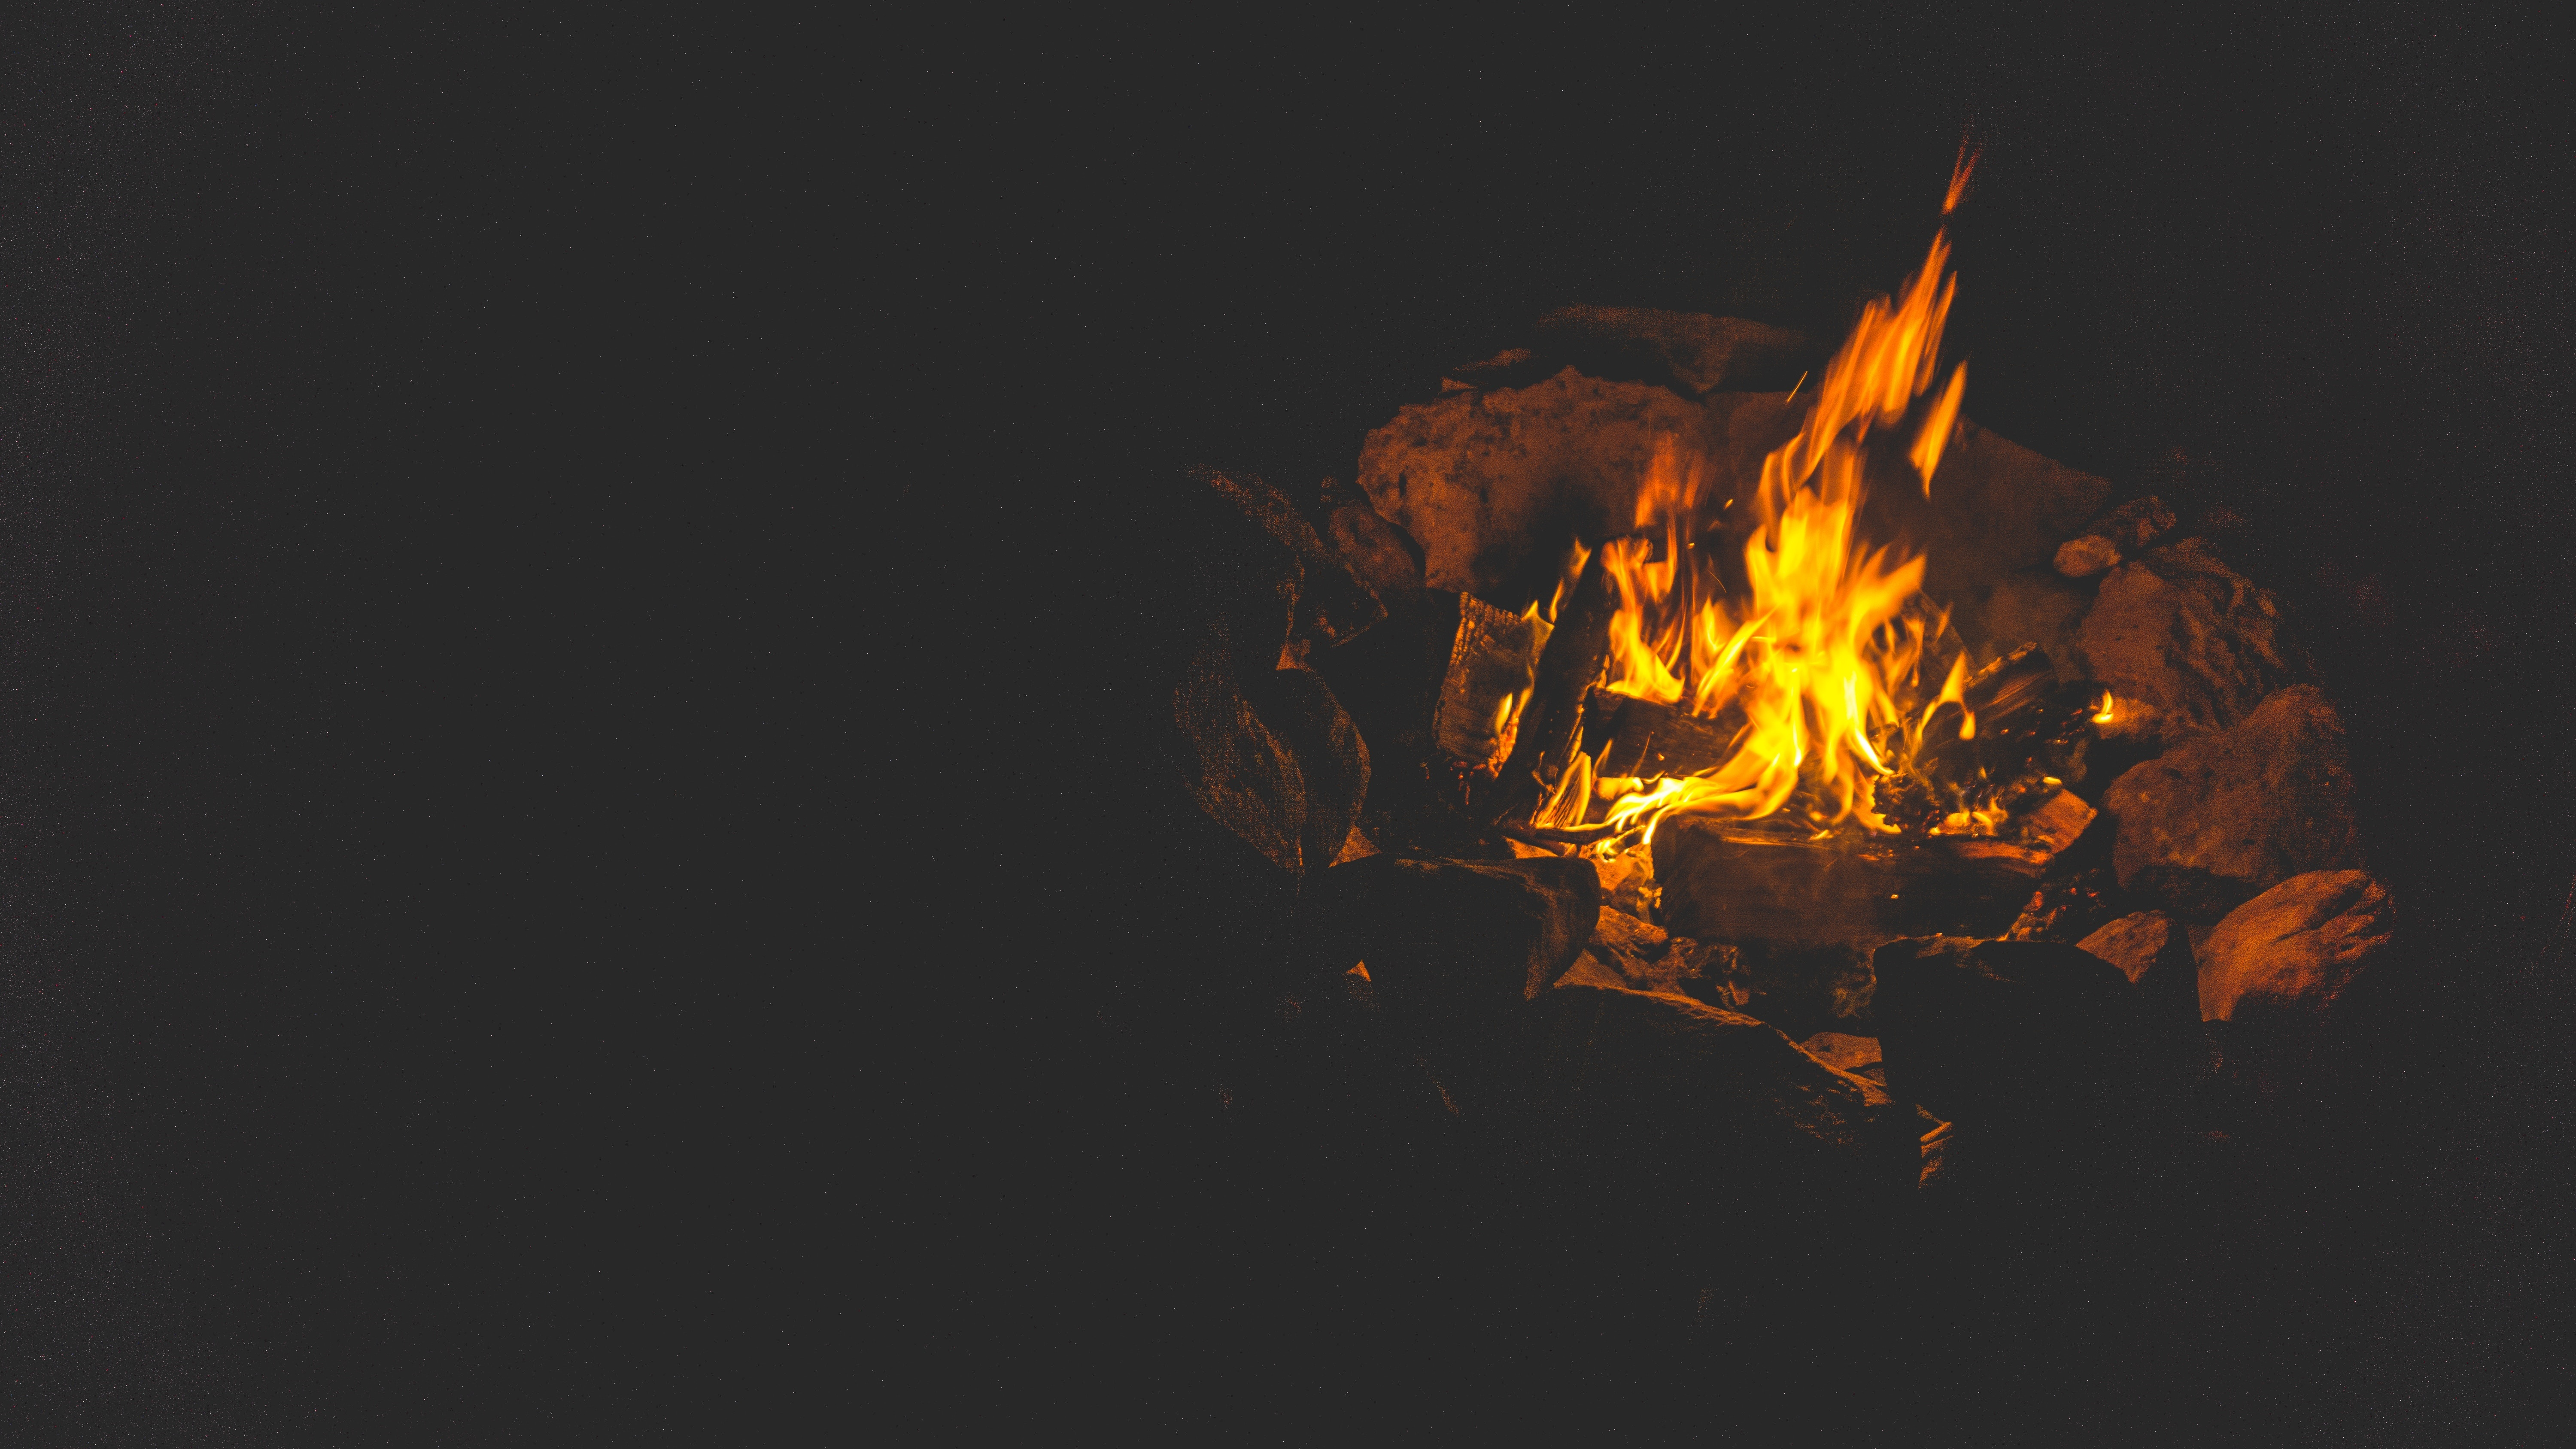fire: (1444, 163, 2040, 970)
